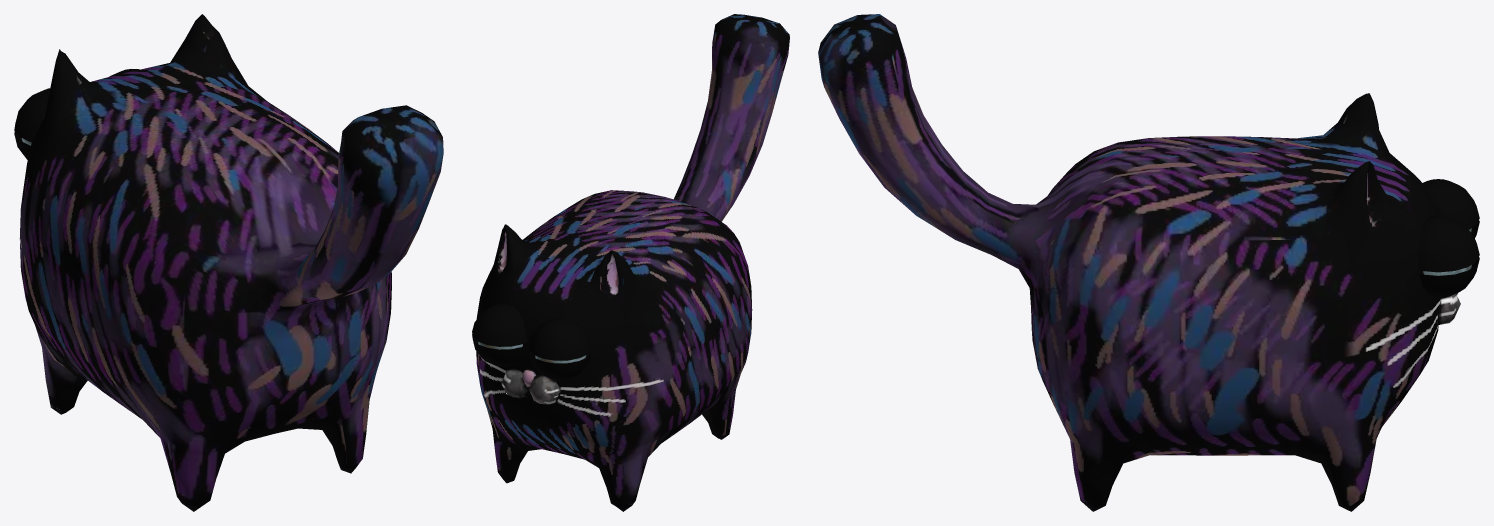
The model's file is Cat.glb.
3 views of the same model, side by side, from view 1: azimuth 30°, elevation 25°; view 2: azimuth 150°, elevation 25°; view 3: azimuth 270°, elevation 25° (orthographic). The views are drawn at different scales.
Parts seen in each view (by area): view 1: Cat, TopLids; view 2: Cat, TopLids, BottomLids; view 3: Cat, TopLids, BottomLids.
Boxes of the visible parts, x1,y1,x2,y2 form: Cat: (19,14,443,511); TopLids: (14,69,139,142); Cat: (476,14,789,511); TopLids: (472,303,591,360); BottomLids: (472,334,591,380); Cat: (818,14,1460,511); TopLids: (1418,179,1479,272); BottomLids: (1419,220,1479,298).
Size of the model in its own units: 1.69 by 2.79 by 3.7.
Materials: 3 (2 with a texture image).
